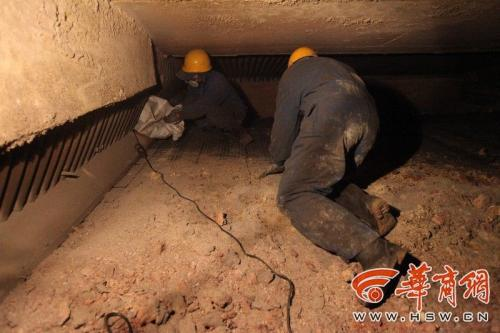helmet: (178, 47, 215, 87), (286, 43, 324, 79)
